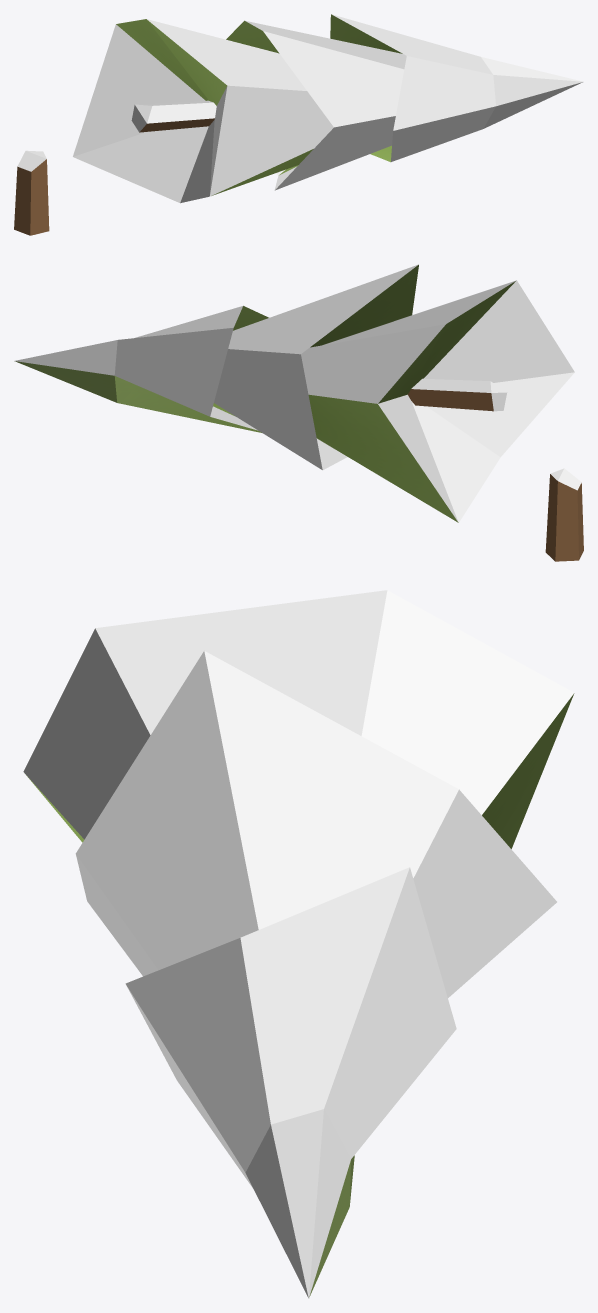
File: Pine_Tree_crk_s_Snow_02.fbx
3 views of the same model, one above another, from view 1: azimuth 30°, elevation 25°; view 2: azimuth 150°, elevation 25°; view 3: azimuth 270°, elevation 25° (orthographic). The views are drawn at different scales.
Parts seen in each view (by area): view 1: Pine_Tree_crk_s_Snow_02; view 2: Pine_Tree_crk_s_Snow_02; view 3: Pine_Tree_crk_s_Snow_02.
Boxes of the visible parts, left/top/right/bottom form: Pine_Tree_crk_s_Snow_02: left=14, top=14, right=583, bottom=235; Pine_Tree_crk_s_Snow_02: left=14, top=264, right=583, bottom=561; Pine_Tree_crk_s_Snow_02: left=23, top=590, right=574, bottom=1298.
Size of the model in its own units: 357 by 117 by 156.
